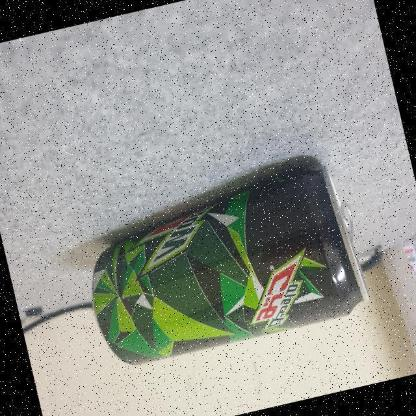Can: (94, 170, 370, 366)
